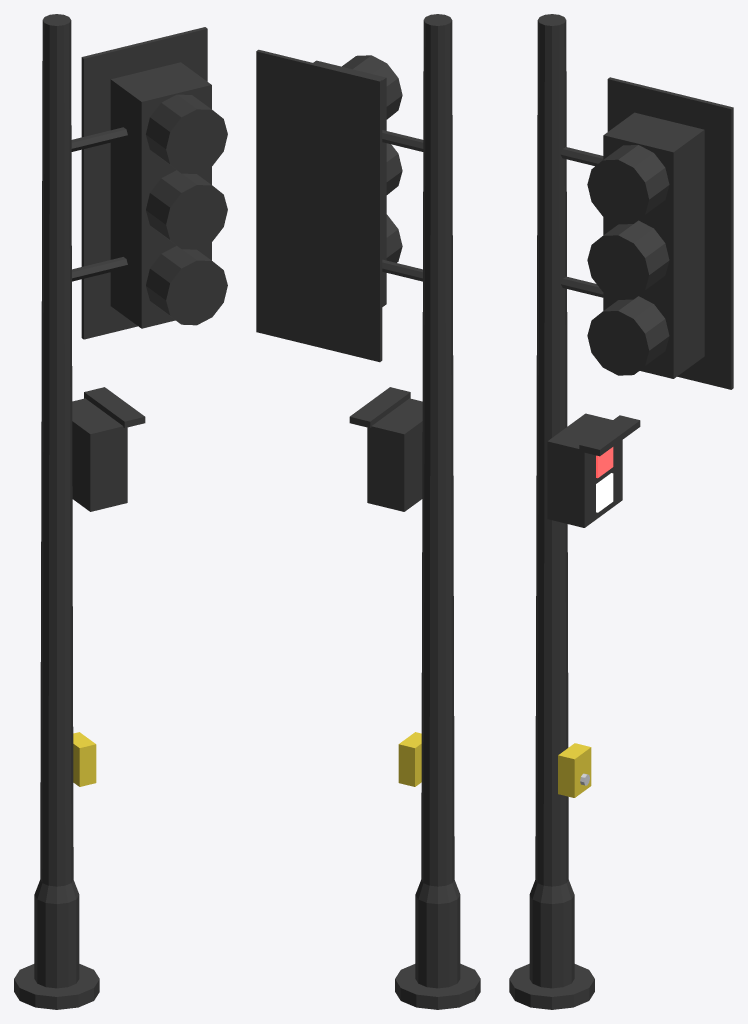
Rendered from traffic_signal_post.glb.
The picture shows the model from 3 angles, left to right: view 1: azimuth 30°, elevation 25°; view 2: azimuth 150°, elevation 25°; view 3: azimuth 330°, elevation 25°; orthographic projection.
Parts seen in each view (by area): view 1: traffic_signal_post; view 2: traffic_signal_post; view 3: traffic_signal_post, ped_walk.
Boxes of the visible parts, <box> form: traffic_signal_post: <box>14,14,227,1009</box>; traffic_signal_post: <box>256,14,480,1009</box>; traffic_signal_post: <box>509,14,733,1009</box>; ped_walk: <box>596,473,613,512</box>.
Size of the model in its own units: 0.98 by 4.5 by 0.49.
